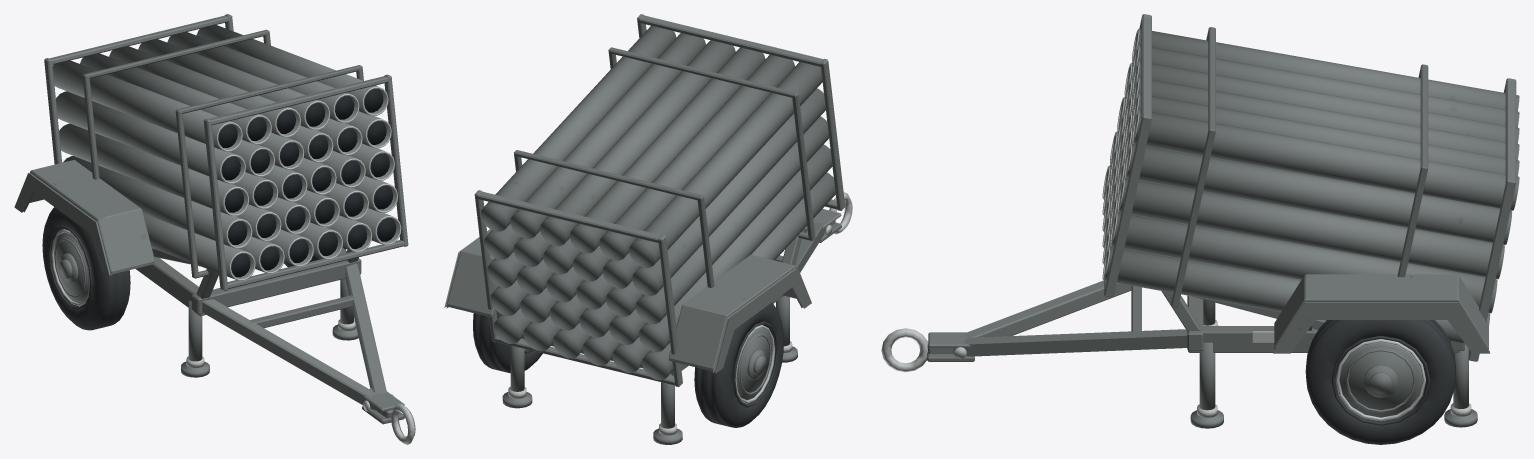
File: unified-node-low.glb
The picture shows the model from 3 angles, left to right: view 1: azimuth 30°, elevation 25°; view 2: azimuth 150°, elevation 25°; view 3: azimuth 270°, elevation 25°; orthographic projection. The views are drawn at different scales.
Visible parts, largest first — view 1: LM_Tube_Bundle_Exterior-LM_paint.014-batch, LM_Tube_Bundle_Exterior-LM_dark.014-batch, LM_Rack_Frame_Exterior-LM_paint.014-batch, LM_Fenders-LM_paint.014-batch, LM_Drawbar_Tow_Eye-LM_paint.014-batch, LM_Tube_Bundle_Exterior-LM_steel.014-batch, LM_Rack_Frame_Exterior-LM_fitting.014-batch, LM_Wheel_Left_Pivot-LM_rubber.014-batch, LM_Carriage_Exterior-LM_fitting.014-batch, LM_Drawbar_Tow_Eye-LM_fitting.014-batch, LM_Display_Supports-LM_fitting.014-batch, LM_Wheel_Left_Pivot-LM_wheel.014-batch (+4 smaller); view 2: LM_Tube_Bundle_Exterior-LM_paint.014-batch, LM_Fenders-LM_paint.014-batch, LM_Rack_Frame_Exterior-LM_paint.014-batch, LM_Rack_Frame_Exterior-LM_fitting.014-batch, LM_Wheel_Left_Pivot-LM_rubber.014-batch, LM_Display_Supports-LM_fitting.014-batch, LM_Wheel_Right_Pivot-LM_rubber.014-batch, LM_Wheel_Left_Pivot-LM_wheel.014-batch, LM_Wheel_Left_Pivot-LM_fitting.014-batch, LM_Drawbar_Tow_Eye-LM_paint.014-batch, LM_Display_Supports-LM_paint.014-batch, LM_Wheel_Left_Pivot-LM_steel.014-batch; view 3: LM_Tube_Bundle_Exterior-LM_paint.014-batch, LM_Fenders-LM_paint.014-batch, LM_Wheel_Right_Pivot-LM_rubber.014-batch, LM_Drawbar_Tow_Eye-LM_paint.014-batch, LM_Rack_Frame_Exterior-LM_paint.014-batch, LM_Rack_Frame_Exterior-LM_fitting.014-batch, LM_Tube_Bundle_Exterior-LM_steel.014-batch, LM_Wheel_Right_Pivot-LM_fitting.014-batch, LM_Carriage_Exterior-LM_fitting.014-batch, LM_Wheel_Right_Pivot-LM_wheel.014-batch, LM_Display_Supports-LM_fitting.014-batch, LM_Tow_Eye (+3 smaller).
Boxes of the visible parts, x1=… form: LM_Tube_Bundle_Exterior-LM_paint.014-batch: x1=52, y1=25, x2=399, y2=280; LM_Tube_Bundle_Exterior-LM_dark.014-batch: x1=218, y1=89, x2=396, y2=277; LM_Rack_Frame_Exterior-LM_paint.014-batch: x1=44, y1=14, x2=408, y2=298; LM_Fenders-LM_paint.014-batch: x1=14, y1=160, x2=154, y2=276; LM_Drawbar_Tow_Eye-LM_paint.014-batch: x1=202, y1=263, x2=404, y2=423; LM_Tube_Bundle_Exterior-LM_steel.014-batch: x1=216, y1=86, x2=401, y2=280; LM_Rack_Frame_Exterior-LM_fitting.014-batch: x1=82, y1=29, x2=363, y2=278; LM_Wheel_Left_Pivot-LM_rubber.014-batch: x1=42, y1=207, x2=130, y2=330; LM_Carriage_Exterior-LM_fitting.014-batch: x1=135, y1=248, x2=361, y2=316; LM_Drawbar_Tow_Eye-LM_fitting.014-batch: x1=250, y1=295, x2=404, y2=424; LM_Display_Supports-LM_fitting.014-batch: x1=188, y1=279, x2=353, y2=361; LM_Wheel_Left_Pivot-LM_wheel.014-batch: x1=54, y1=232, x2=89, y2=303; LM_Tube_Bundle_Exterior-LM_paint.014-batch: x1=480, y1=25, x2=835, y2=380; LM_Fenders-LM_paint.014-batch: x1=444, y1=229, x2=811, y2=373; LM_Rack_Frame_Exterior-LM_paint.014-batch: x1=474, y1=14, x2=845, y2=386; LM_Rack_Frame_Exterior-LM_fitting.014-batch: x1=514, y1=47, x2=815, y2=287; LM_Wheel_Left_Pivot-LM_rubber.014-batch: x1=694, y1=302, x2=783, y2=427; LM_Display_Supports-LM_fitting.014-batch: x1=510, y1=296, x2=789, y2=428; LM_Wheel_Right_Pivot-LM_rubber.014-batch: x1=473, y1=311, x2=542, y2=373; LM_Wheel_Left_Pivot-LM_wheel.014-batch: x1=736, y1=328, x2=772, y2=400; LM_Wheel_Left_Pivot-LM_fitting.014-batch: x1=737, y1=331, x2=771, y2=397; LM_Drawbar_Tow_Eye-LM_paint.014-batch: x1=795, y1=209, x2=841, y2=272; LM_Display_Supports-LM_paint.014-batch: x1=502, y1=346, x2=797, y2=444; LM_Wheel_Left_Pivot-LM_steel.014-batch: x1=735, y1=325, x2=774, y2=403; LM_Tube_Bundle_Exterior-LM_paint.014-batch: x1=1104, y1=28, x2=1519, y2=343; LM_Fenders-LM_paint.014-batch: x1=1273, y1=274, x2=1489, y2=353; LM_Wheel_Right_Pivot-LM_rubber.014-batch: x1=1305, y1=320, x2=1455, y2=444; LM_Drawbar_Tow_Eye-LM_paint.014-batch: x1=927, y1=280, x2=1187, y2=356; LM_Rack_Frame_Exterior-LM_paint.014-batch: x1=1104, y1=14, x2=1516, y2=361; LM_Rack_Frame_Exterior-LM_fitting.014-batch: x1=1171, y1=27, x2=1428, y2=329; LM_Tube_Bundle_Exterior-LM_steel.014-batch: x1=1102, y1=29, x2=1139, y2=280; LM_Wheel_Right_Pivot-LM_fitting.014-batch: x1=1343, y1=346, x2=1418, y2=414; LM_Carriage_Exterior-LM_fitting.014-batch: x1=1187, y1=295, x2=1464, y2=352; LM_Wheel_Right_Pivot-LM_wheel.014-batch: x1=1339, y1=342, x2=1422, y2=417; LM_Display_Supports-LM_fitting.014-batch: x1=1199, y1=299, x2=1468, y2=410; LM_Tow_Eye: x1=881, y1=328, x2=928, y2=372.
Bounding box in the file's own units: 2.63 × 2.6 × 4.78.
Materials: 6 (3 with a texture image).
